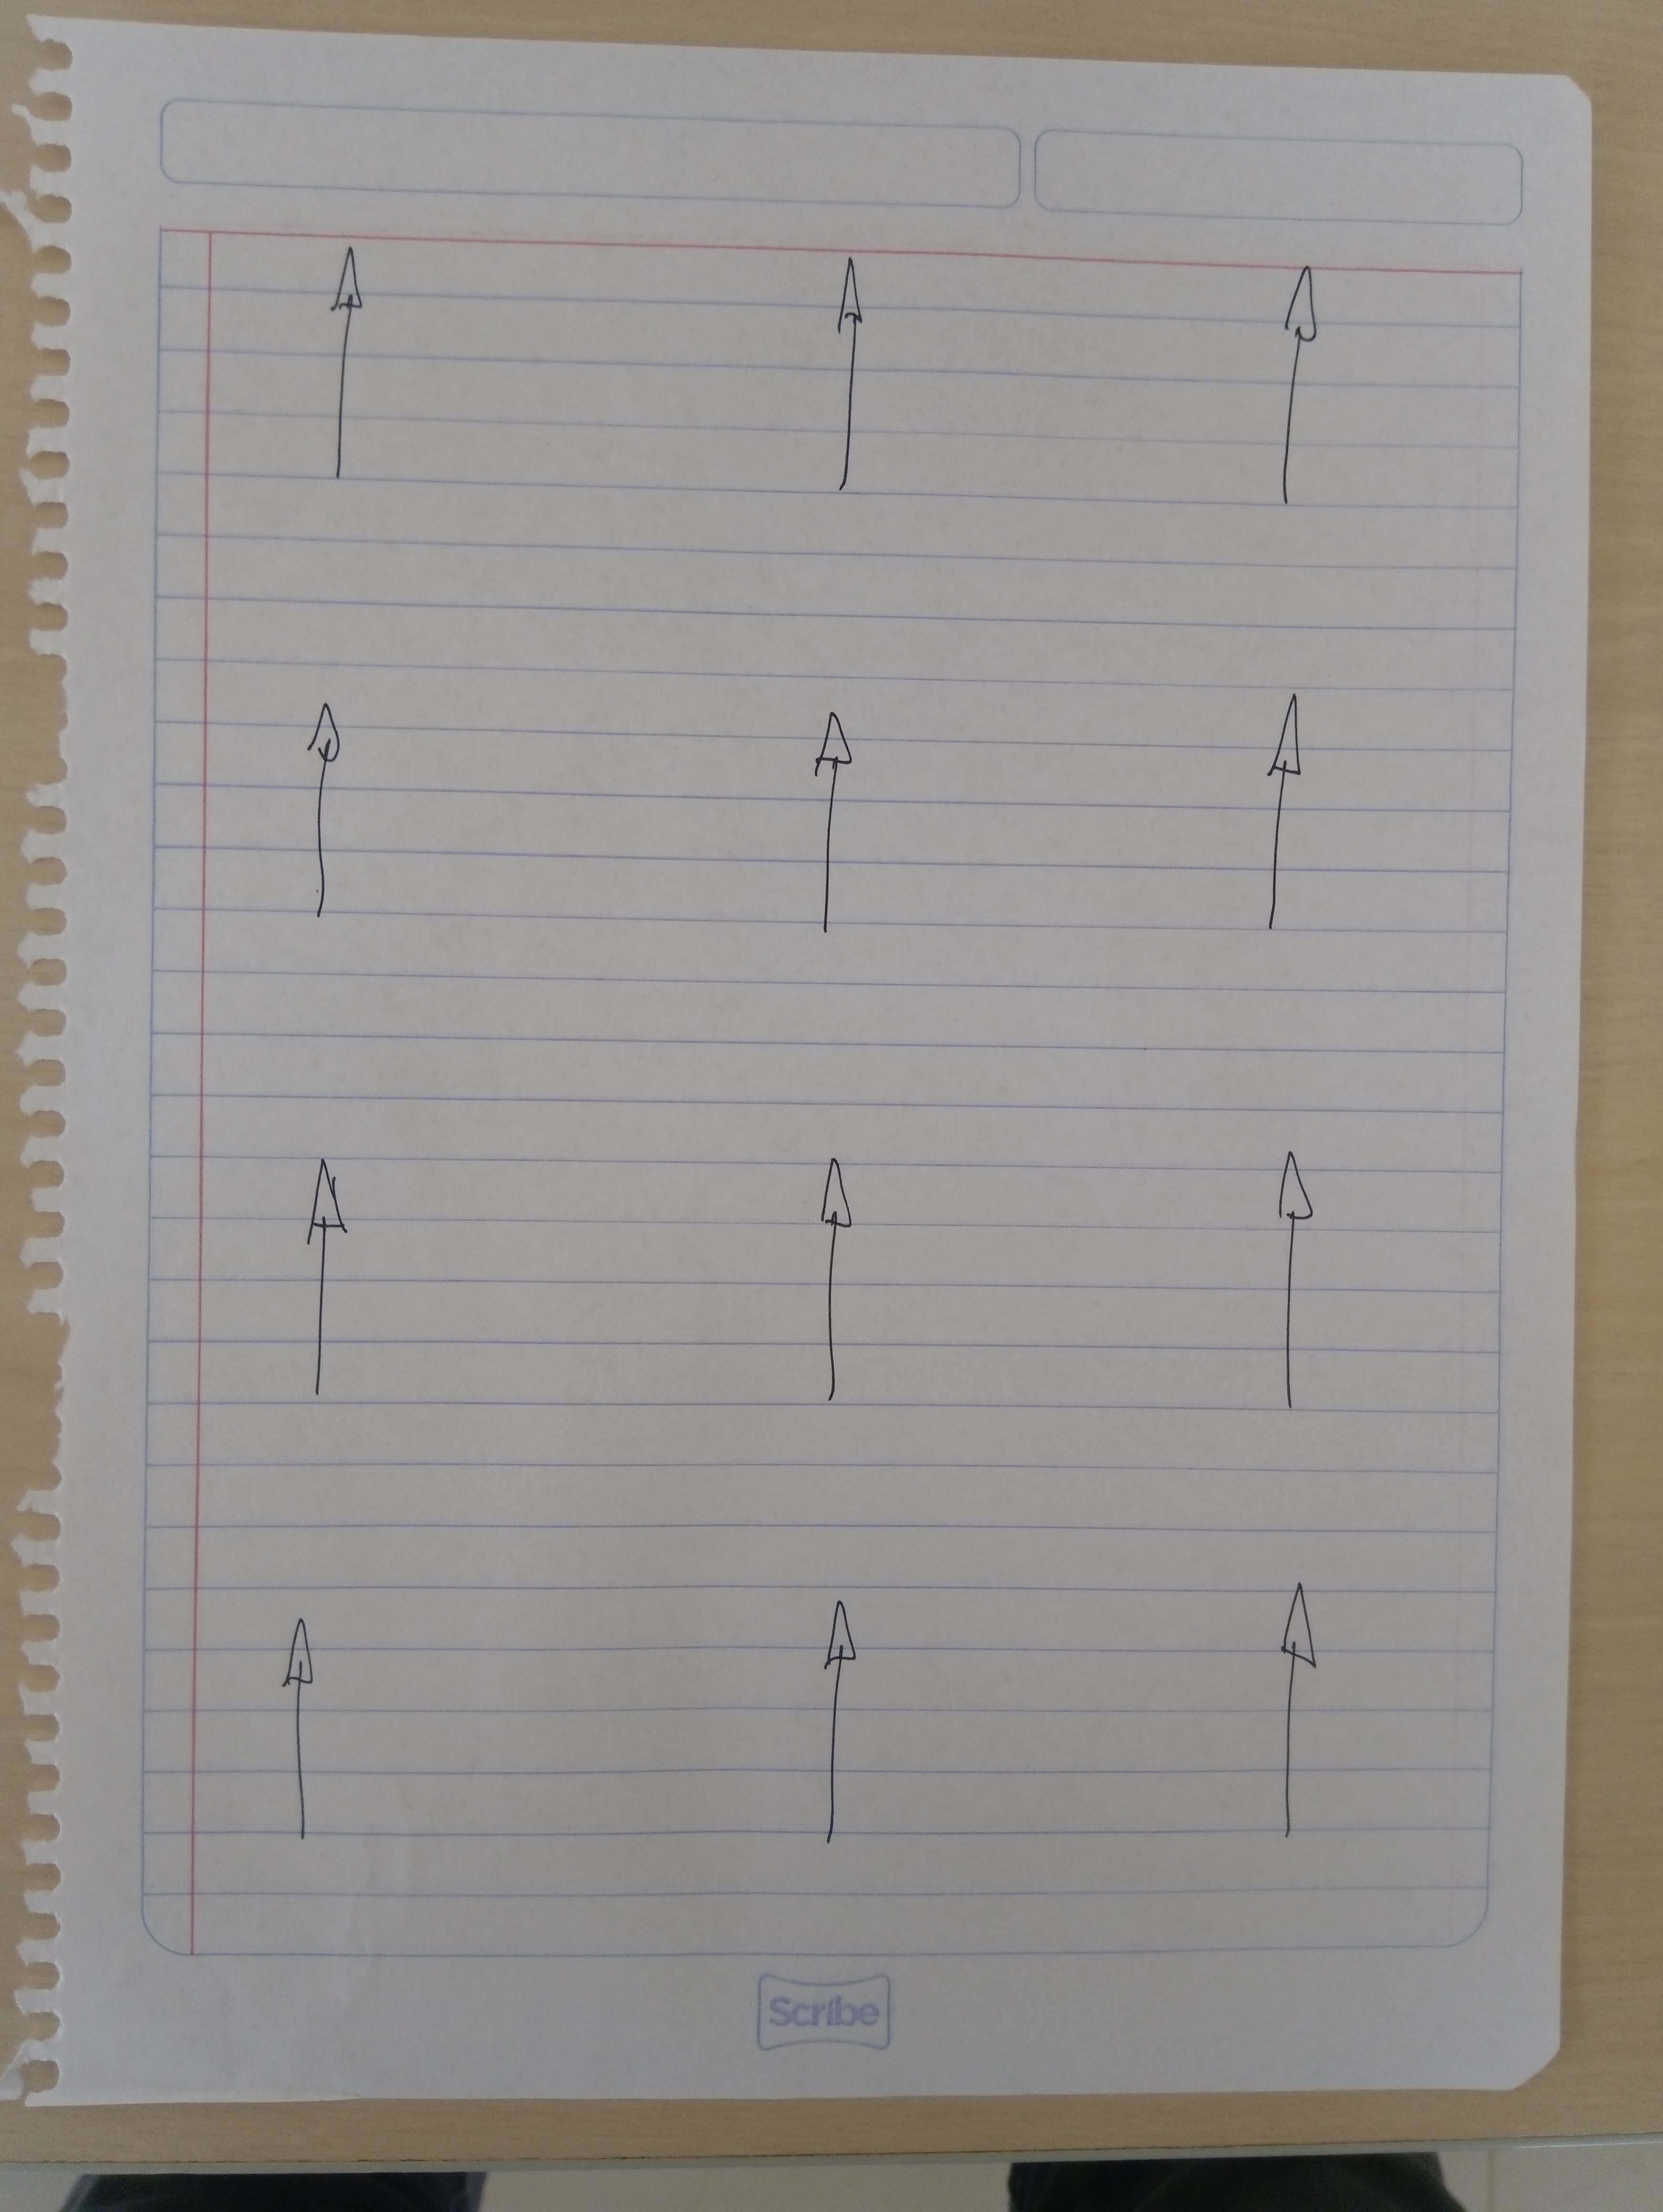arrow_line_up: (1244, 1589, 1349, 1833), (279, 1163, 372, 1433), (1244, 677, 1329, 957), (795, 1147, 887, 1402), (807, 1583, 887, 1868), (264, 1611, 344, 1868), (819, 255, 896, 519), (1259, 1163, 1333, 1430), (299, 705, 377, 934), (795, 702, 868, 925), (1277, 257, 1338, 519), (318, 251, 377, 492)
